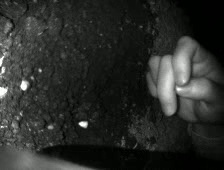corn: (18, 78, 32, 92), (76, 118, 89, 131)
